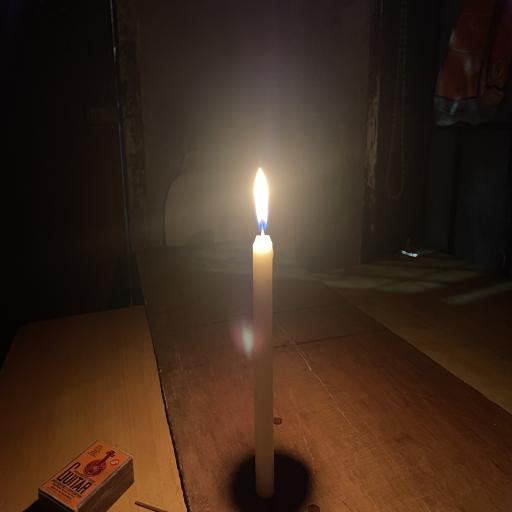fire: (221, 152, 318, 260)
